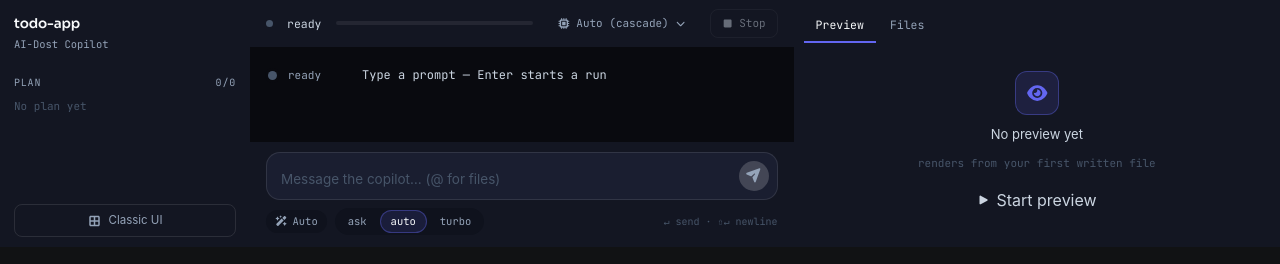
Test case: CopilotAurora (P11 A2 — real run wiring) › A5 @file mentions: dropdown inserts path, run sends contextFiles + mentioned-first projectFiles
In the text box with test id "aurora-composer-input": (506, 180) x1=281 y1=168 x2=731 y2=190, type "fix @App"
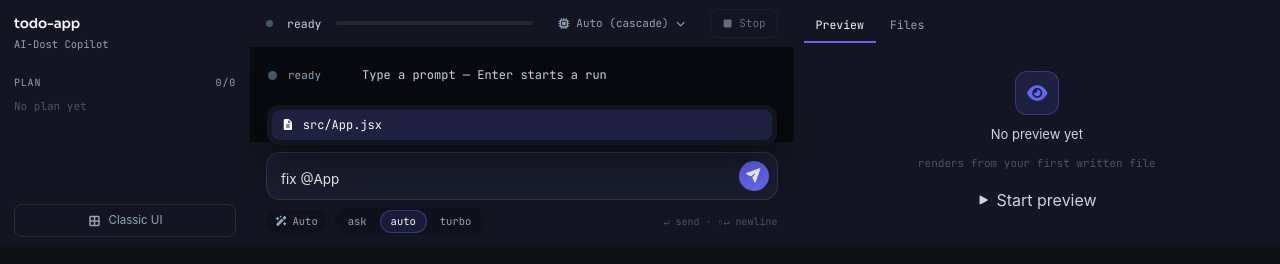
Expected: the number of options with test id "mention-item" is 1, x1=272 y1=110 x2=772 y2=140
Note: Enter inserts the path — it does NOT send yet (prefix "fix " preserved)
Press Enter in the text box with test id "aurora-composer-input", box x1=281 y1=168 x2=731 y2=190
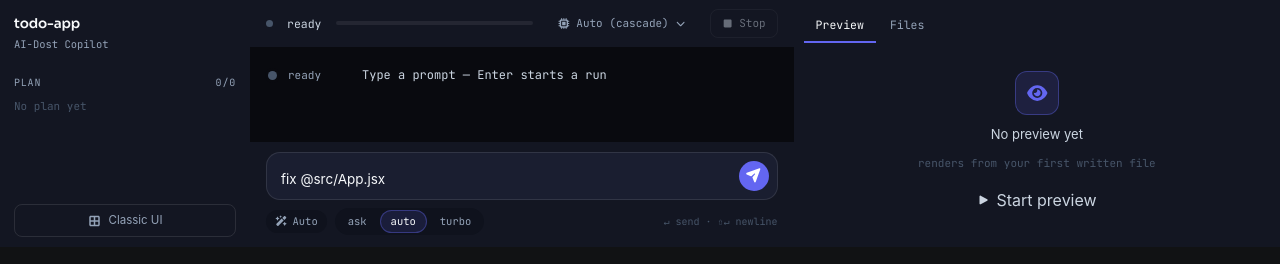
Expected: the list with test id "mention-pop" is gone
Expected: the text box with test id "aurora-composer-input" holds "fix @src/App.jsx "
Note: Enter again sends: contextFiles + projectFiles (mentioned first)
Press Enter in the text box with test id "aurora-composer-input", box x1=281 y1=168 x2=731 y2=190
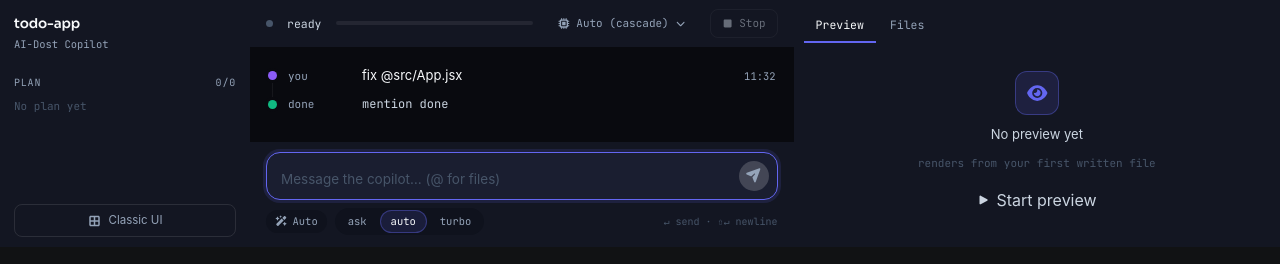
Expected: the text "mention done" is shown, x1=362 y1=96 x2=448 y2=112
